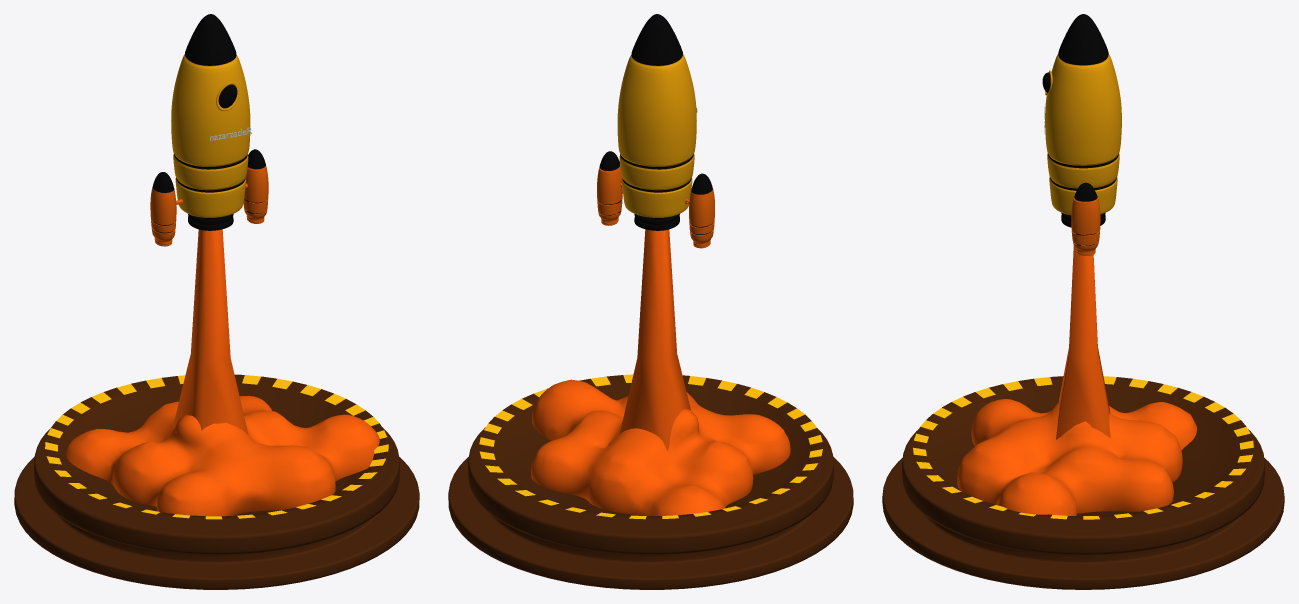
Rendered from rocket.glb.
3 views of the same model, side by side, from view 1: azimuth 30°, elevation 25°; view 2: azimuth 150°, elevation 25°; view 3: azimuth 270°, elevation 25° (orthographic).
Parts seen in each view (by area): view 1: Ranpa, Mball.010, Rocket, Cube, Mini Rocket; view 2: Ranpa, Mball.010, Rocket, Cube, Mini Rocket; view 3: Ranpa, Mball.010, Rocket, Cube, Mini Rocket.
Part boxes in pixels (left/top/right/bottom): Ranpa: left=14, top=374, right=419, bottom=589; Mball.010: left=65, top=396, right=379, bottom=516; Rocket: left=171, top=14, right=250, bottom=230; Cube: left=172, top=229, right=248, bottom=435; Mini Rocket: left=150, top=149, right=268, bottom=246; Ranpa: left=448, top=374, right=853, bottom=589; Mball.010: left=531, top=379, right=790, bottom=515; Rocket: left=617, top=14, right=696, bottom=230; Cube: left=619, top=229, right=690, bottom=450; Mini Rocket: left=597, top=151, right=714, bottom=248; Ranpa: left=882, top=376, right=1284, bottom=589; Mball.010: left=957, top=399, right=1197, bottom=515; Rocket: left=1045, top=14, right=1121, bottom=227; Cube: left=1056, top=245, right=1110, bottom=439; Mini Rocket: left=1071, top=182, right=1100, bottom=255.
Bounding box in the file's own units: 3.39 × 4.62 × 3.39.
